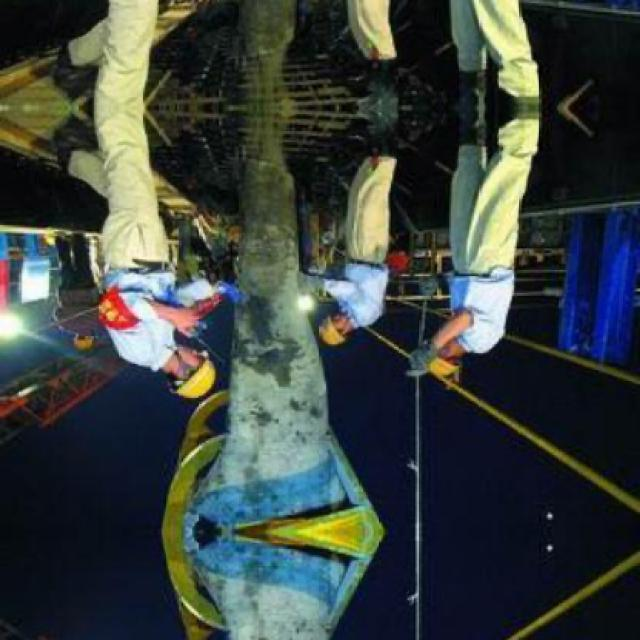con casco: (120, 317, 236, 402), (419, 298, 518, 385), (306, 294, 376, 339)
